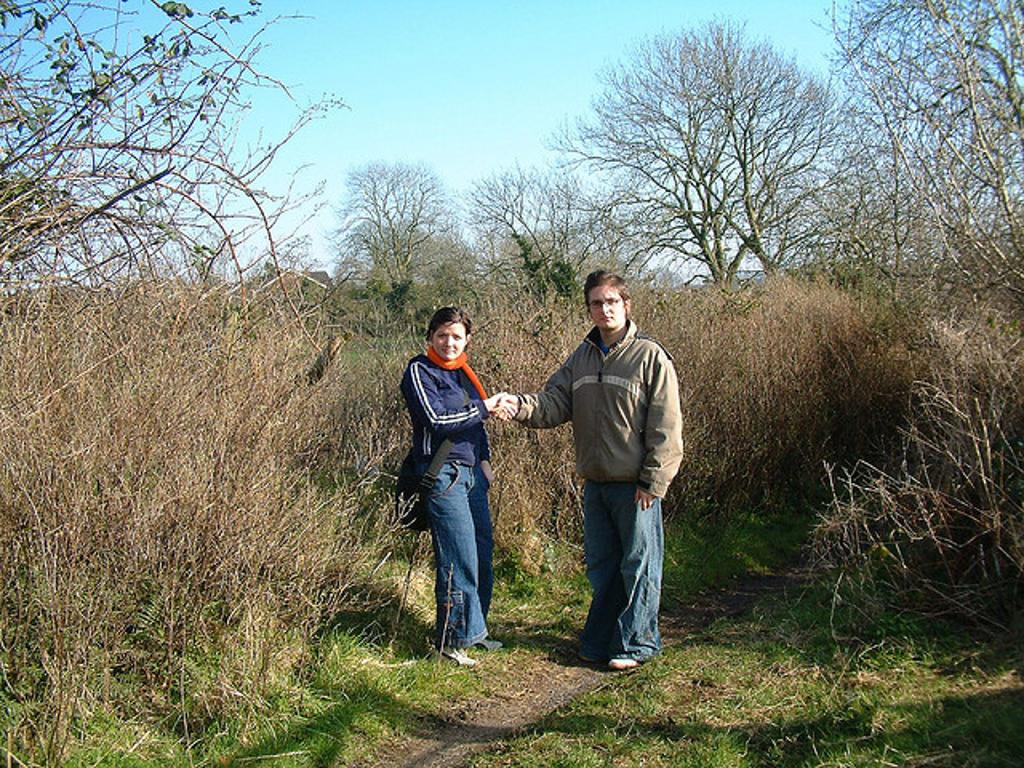face: (589, 288, 625, 327), (433, 321, 465, 359)
